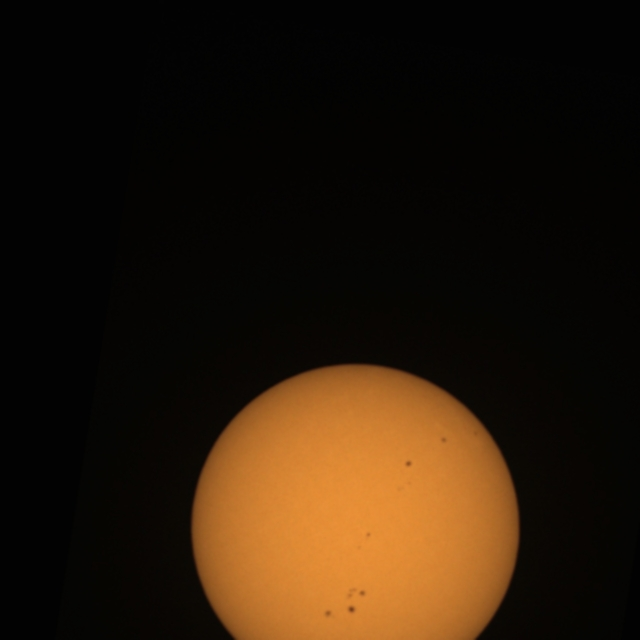sunspot: (320, 599, 360, 619), (396, 460, 415, 494), (345, 586, 367, 614), (355, 531, 372, 552), (396, 477, 413, 494), (346, 604, 358, 615), (323, 609, 334, 619), (404, 459, 413, 468), (439, 436, 448, 445), (473, 428, 480, 438), (355, 544, 363, 551), (365, 531, 372, 539)
